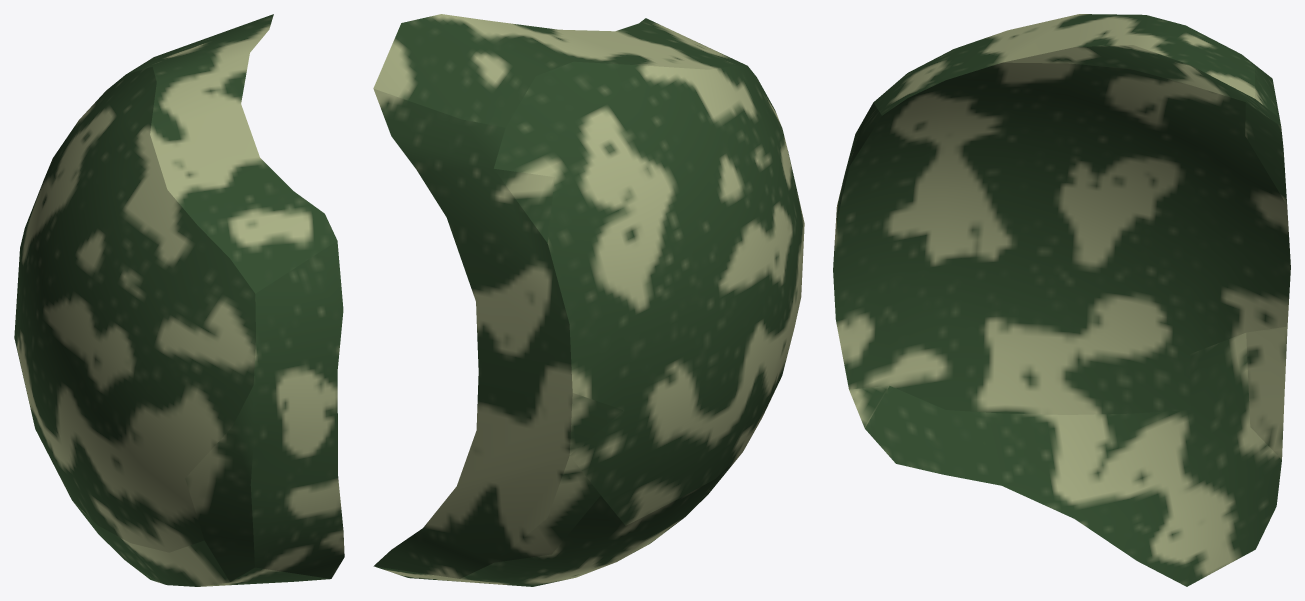
The model's file is link_body_03_composite.obj.
3 views of the same model, side by side, from view 1: azimuth 30°, elevation 25°; view 2: azimuth 150°, elevation 25°; view 3: azimuth 270°, elevation 25° (orthographic). The views are drawn at different scales.
Visible parts, largest first — view 1: link_body_03; view 2: link_body_03; view 3: link_body_03.
Part boxes in pixels (box(x1,y1,x2,y2)): link_body_03: box(14, 14, 344, 586); link_body_03: box(373, 14, 804, 586); link_body_03: box(833, 14, 1290, 586).
Bounding box in the file's own units: 9.27 × 16.98 × 13.4.
Materials: 1 (1 with a texture image).
